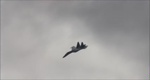maybay_muctieu: (62, 41, 88, 62)
